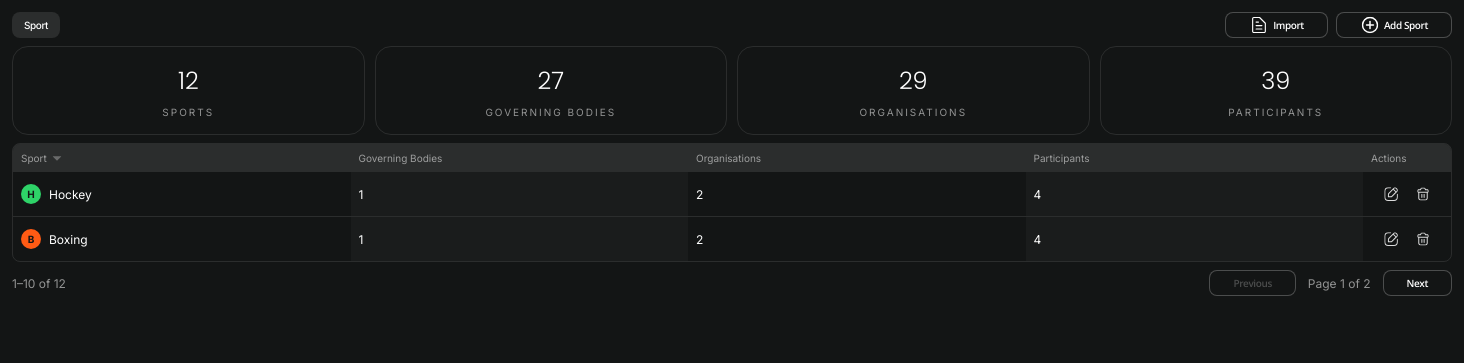
Scenario: SportListPage › offers a retry when the list cannot be loaded
Click the button "Next" at [1417, 283], box [1383,270,1452,296]
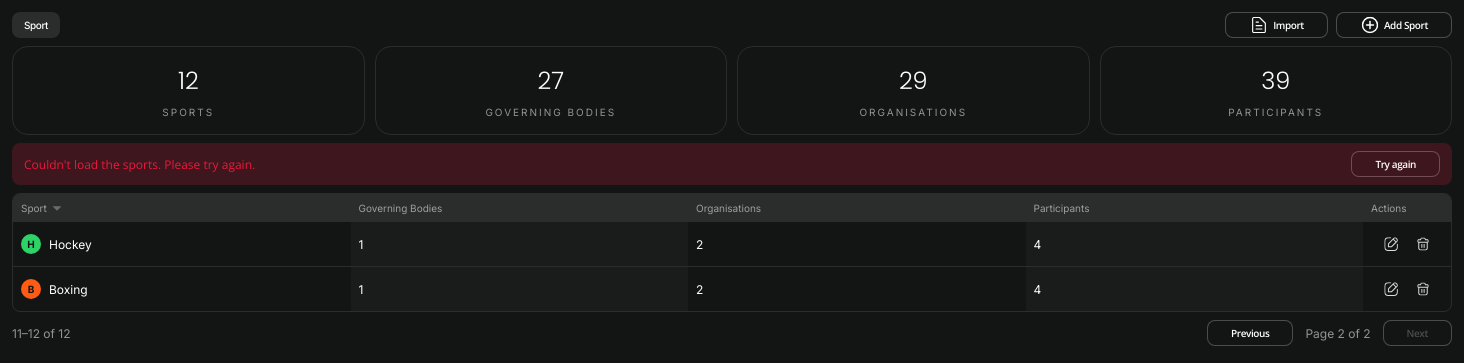
Now the message with class "sport-list__error" shows "Couldn't load the sports", box [24,156,255,172]
Click the button "Try again" at [1396, 164], box [1352,151,1440,177]
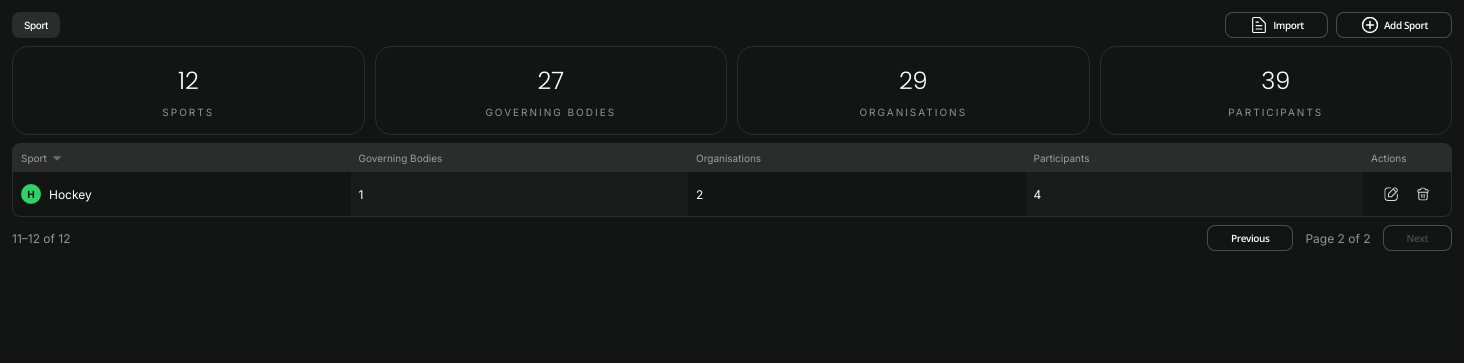
Now the message with class "sport-list__error" is gone
